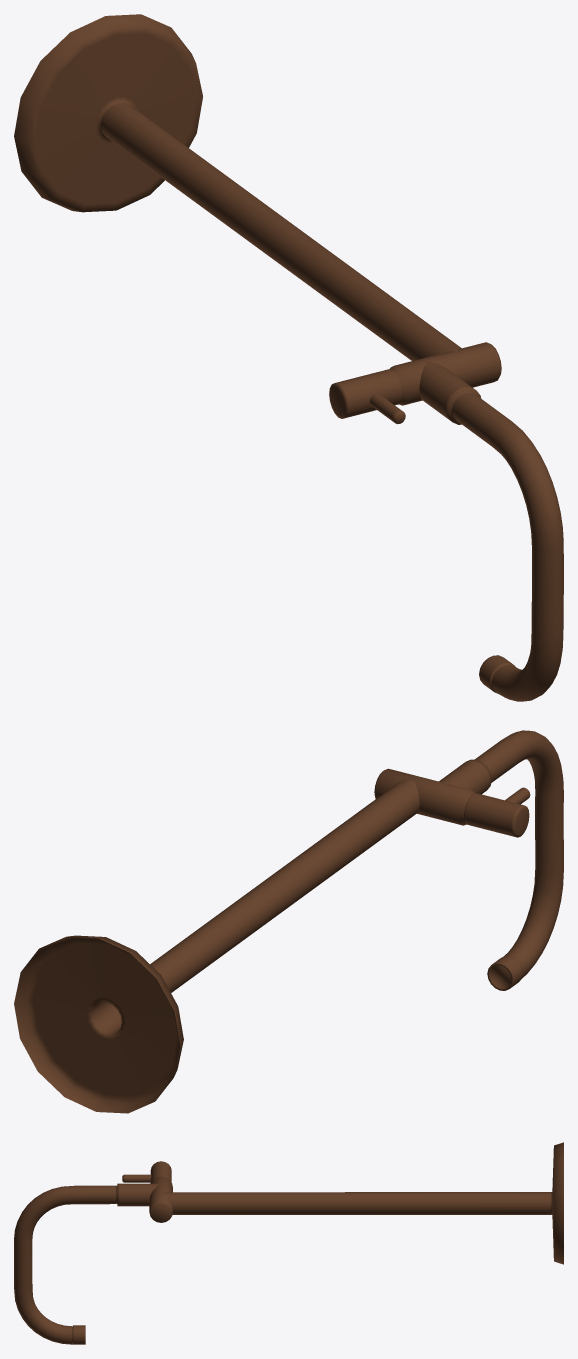
Rendered from MeshFp414_Polysurface2_0.obj.
3 views of the same model, one above another, from view 1: azimuth 30°, elevation 25°; view 2: azimuth 150°, elevation 25°; view 3: azimuth 270°, elevation 25° (orthographic). The views are drawn at different scales.
Parts seen in each view (by area): view 1: Fp414_Polysurface2; view 2: Fp414_Polysurface2; view 3: Fp414_Polysurface2.
Part boxes in pixels (<box>): Fp414_Polysurface2: <box>14,14,563,701</box>; Fp414_Polysurface2: <box>14,730,563,1113</box>; Fp414_Polysurface2: <box>14,1142,563,1344</box>.
Bounding box in the file's own units: 0.2112 × 0.3369 × 0.8216.
